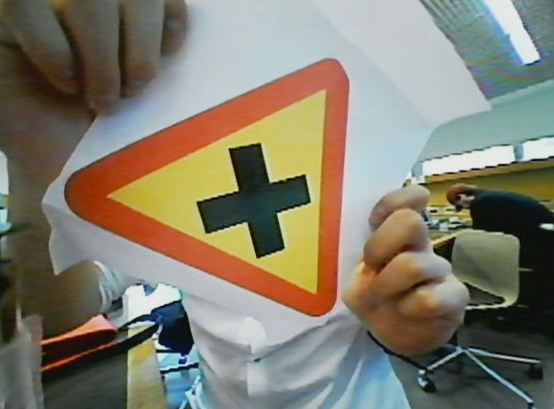junction: (52, 59, 367, 337)
